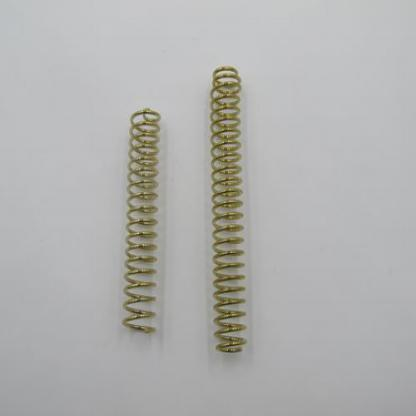FOD: (208, 63, 250, 357), (120, 105, 163, 341)
